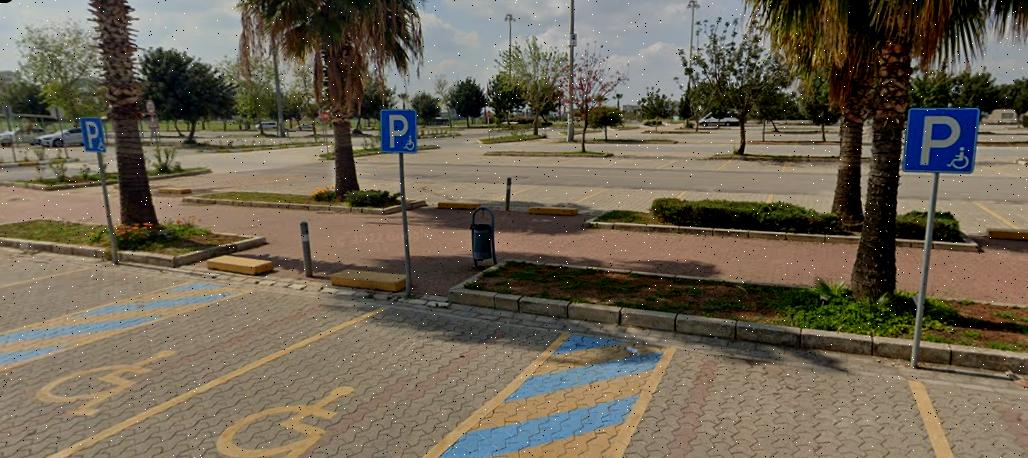disabledpark: (915, 111, 976, 175), (383, 111, 416, 152), (84, 121, 104, 150)
